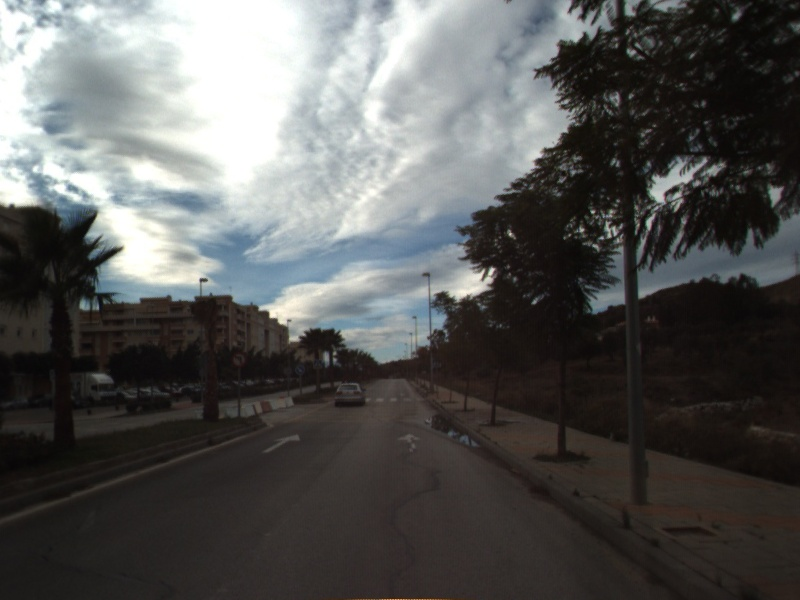STRAIGHT: (260, 432, 302, 455), (395, 431, 424, 455)
